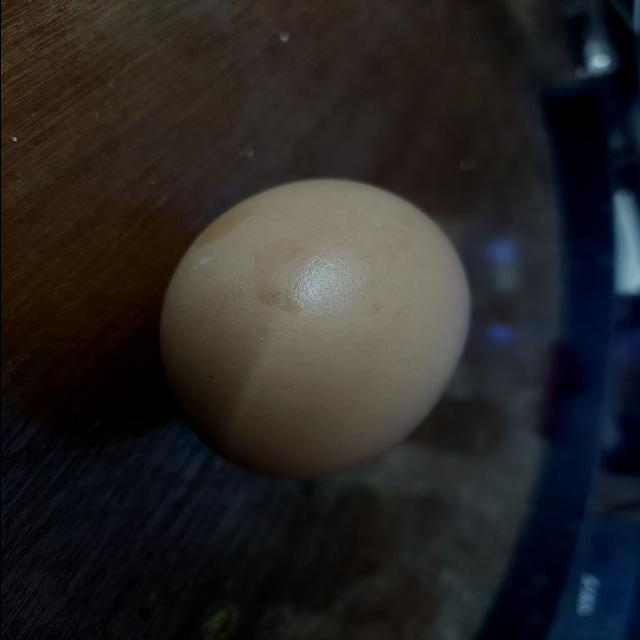egg: (154, 167, 479, 493)
